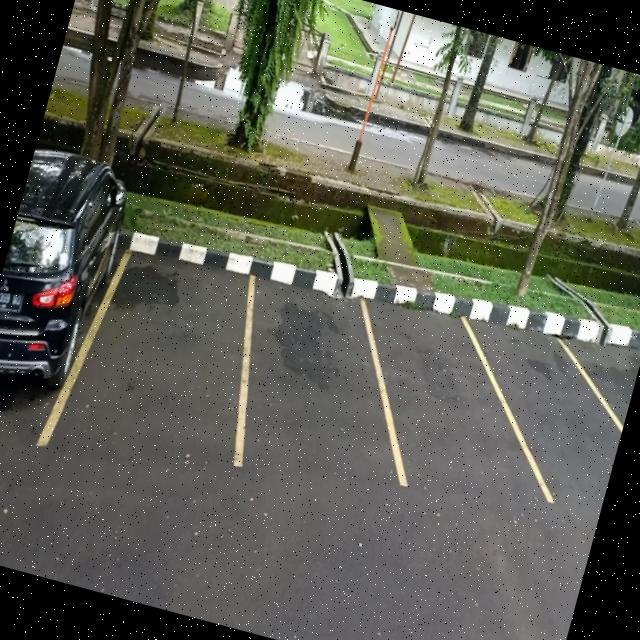empty: (64, 214, 285, 476), (214, 252, 407, 499), (355, 294, 532, 518), (483, 316, 630, 517)
occupied: (0, 162, 130, 445)
